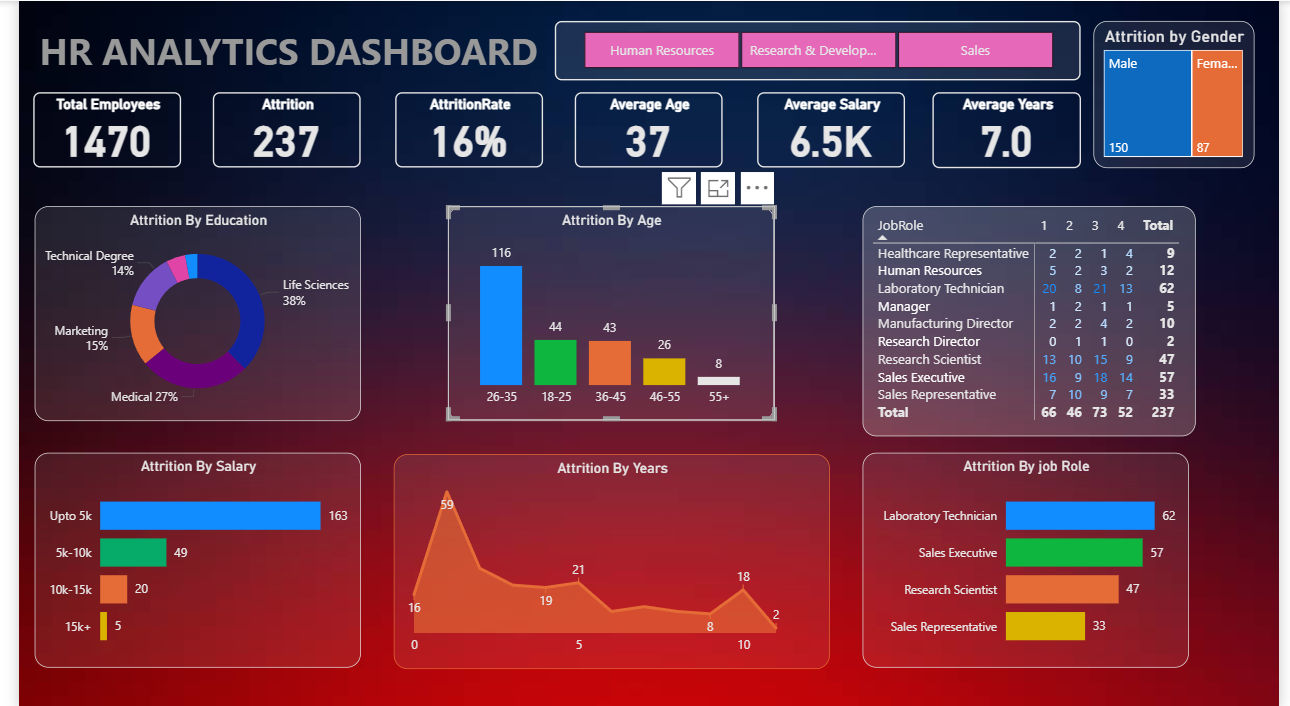

This screenshot's page, from the dashboard's own definition file:
{"tool":"powerbi","page":{"name":"Page 1","canvas":[1280,720],"ordinal":0},"visuals":[{"type":"card","title":"Total Employees","fields":{"Values":["CountNonNull(HR_Analytics.EmpID)"]},"box":[15,93.3,150,76.7],"z":0},{"type":"card","title":"Attrition","fields":{"Values":["Sum(HR_Analytics.AttritionCount)"]},"box":[196.7,93.3,150,76.7],"z":1000},{"type":"card","title":"AttritionRate","fields":{"Values":["HR_Analytics.attritonRate"]},"box":[381.7,93.3,150,76.7],"z":2000},{"type":"card","title":"Average Age","fields":{"Values":["Avg(HR_Analytics.Age)"]},"box":[565,93.3,150,76.7],"z":3000},{"type":"card","title":"Average Salary","fields":{"Values":["Avg(HR_Analytics.MonthlyIncome)"]},"box":[750,93.3,150,76.7],"z":4000},{"type":"treemap","title":"Attrition by Gender","fields":{"Group":["HR_Analytics.Gender"],"Values":["Sum(HR_Analytics.AttritionCount)"]},"box":[1090.6,20.6,163.2,149.4],"z":5000},{"type":"card","title":"Average Years","fields":{"Values":["Avg(HR_Analytics.YearsAtCompany)"]},"box":[927.5,92.7,151.1,77.3],"z":6000},{"type":"textbox","box":[15.5,20.6,549.6,60.1],"z":7000},{"type":"donutChart","title":"Attrition By Education","fields":{"Category":["HR_Analytics.EducationField"],"Y":["Sum(HR_Analytics.AttritionCount)"]},"box":[15.5,207.8,331.5,218.1],"z":8000},{"type":"clusteredColumnChart","title":"Attrition By Age","fields":{"Category":["HR_Analytics.AgeGroup"],"Y":["Sum(HR_Analytics.AttritionCount)"]},"box":[436.3,207.8,331.5,218.1],"z":9000},{"type":"pivotTable","fields":{"Rows":["HR_Analytics.JobRole"],"Columns":["HR_Analytics.JobSatisfaction"],"Values":["Sum(HR_Analytics.AttritionCount)"]},"box":[857.1,207.8,338.4,233.6],"z":10000},{"type":"barChart","title":"Attrition By Salary","fields":{"Category":["HR_Analytics.SalarySlab"],"Y":["Sum(HR_Analytics.AttritionCount)"]},"box":[15.5,458.6,331.5,218.1],"z":11000},{"type":"barChart","title":"Attrition By job Role","fields":{"Category":["HR_Analytics.JobRole"],"Y":["Sum(HR_Analytics.AttritionCount)"]},"box":[857.1,458.6,331.5,218.1],"z":12000},{"type":"areaChart","title":"Attrition By Years","fields":{"Category":["HR_Analytics.YearsAtCompany"],"Y":["Sum(HR_Analytics.AttritionCount)"]},"box":[381.3,460.3,443.1,218.1],"z":13000},{"type":"slicer","fields":{"Values":["HR_Analytics.Department"]},"box":[544.5,20.6,534.2,60.1],"z":14000}]}

Visuals, with their boxes in screenshot pixels (x1, y1, x2, y2), scaled from the page's 1280x720 canvas onto the 1290x706 screenshot:
"Total Employees" card: 15,91,166,167
"Attrition" card: 198,91,349,167
"AttritionRate" card: 385,91,536,167
"Average Age" card: 569,91,721,167
"Average Salary" card: 756,91,907,167
"Attrition by Gender" treemap: 1099,20,1264,167
"Average Years" card: 935,91,1087,167
textbox: 16,20,570,79
"Attrition By Education" donutChart: 16,204,350,418
"Attrition By Age" clusteredColumnChart: 440,204,774,418
pivotTable - HR_Analytics.JobRole x HR_Analytics.JobSatisfaction: 864,204,1205,433
"Attrition By Salary" barChart: 16,450,350,664
"Attrition By job Role" barChart: 864,450,1198,664
"Attrition By Years" areaChart: 384,451,831,665
slicer - HR_Analytics.Department: 549,20,1087,79
